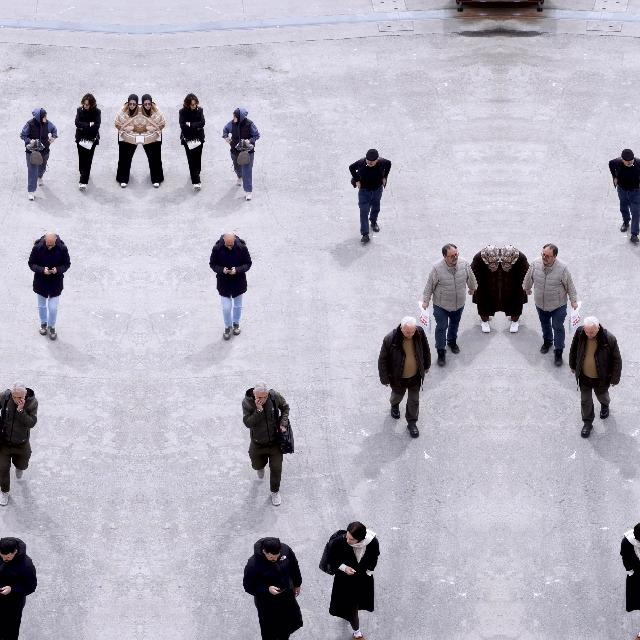person: (320, 520, 380, 640), (422, 243, 478, 365), (522, 243, 578, 365), (377, 316, 431, 438), (569, 316, 623, 438), (242, 382, 294, 506), (242, 536, 304, 640), (208, 232, 252, 340), (28, 232, 72, 340), (0, 381, 38, 506), (348, 148, 392, 244), (0, 536, 37, 639), (222, 108, 260, 200), (20, 108, 58, 200), (608, 148, 640, 243), (178, 93, 206, 191), (75, 93, 102, 191), (470, 245, 500, 333), (500, 245, 530, 333), (619, 520, 640, 639), (140, 94, 166, 188), (114, 94, 140, 188)
